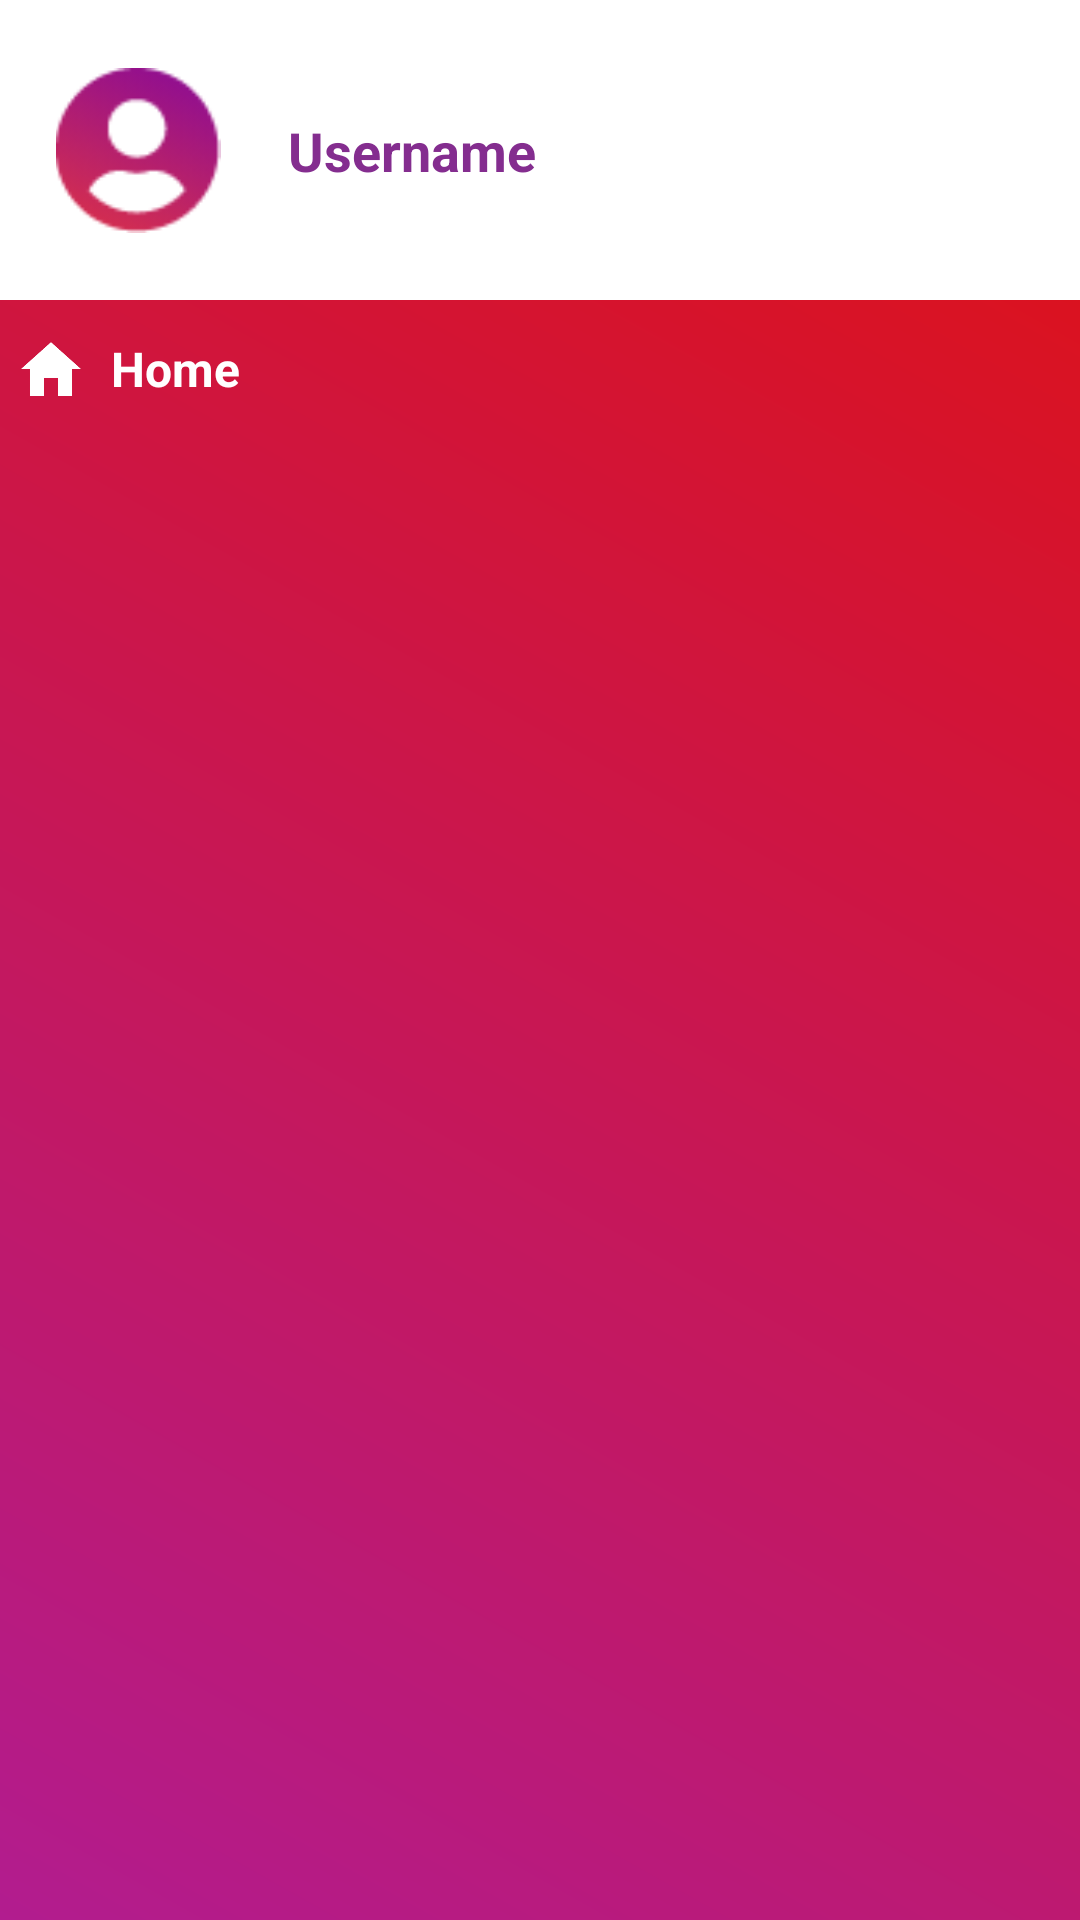

Named icons in this screenshot (1080 x 1920) and their centers, (x=x, y=y):
userprofile: (x=138, y=150)
